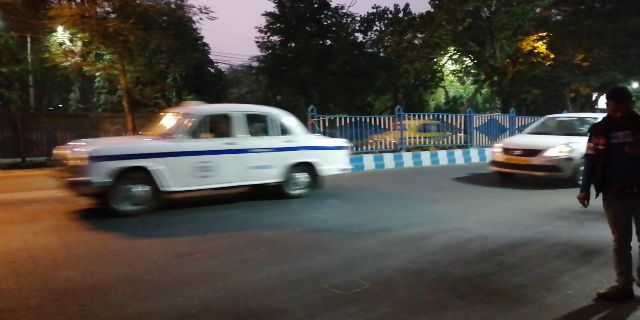Car: (49, 103, 357, 207), (488, 106, 580, 198)
